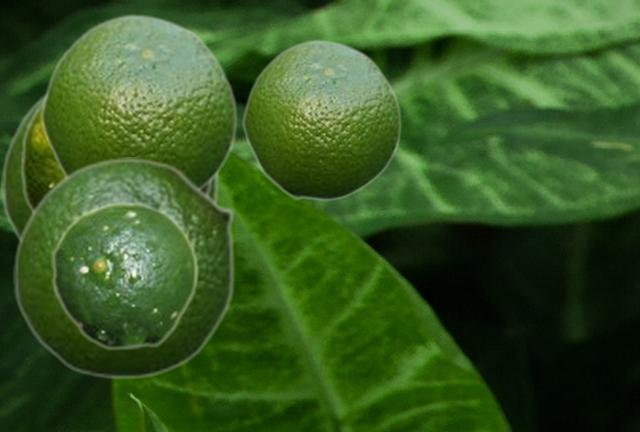calamansi: (13, 157, 235, 379), (39, 12, 237, 189), (1, 87, 219, 244), (241, 38, 401, 200), (19, 94, 213, 211), (51, 201, 198, 350)
